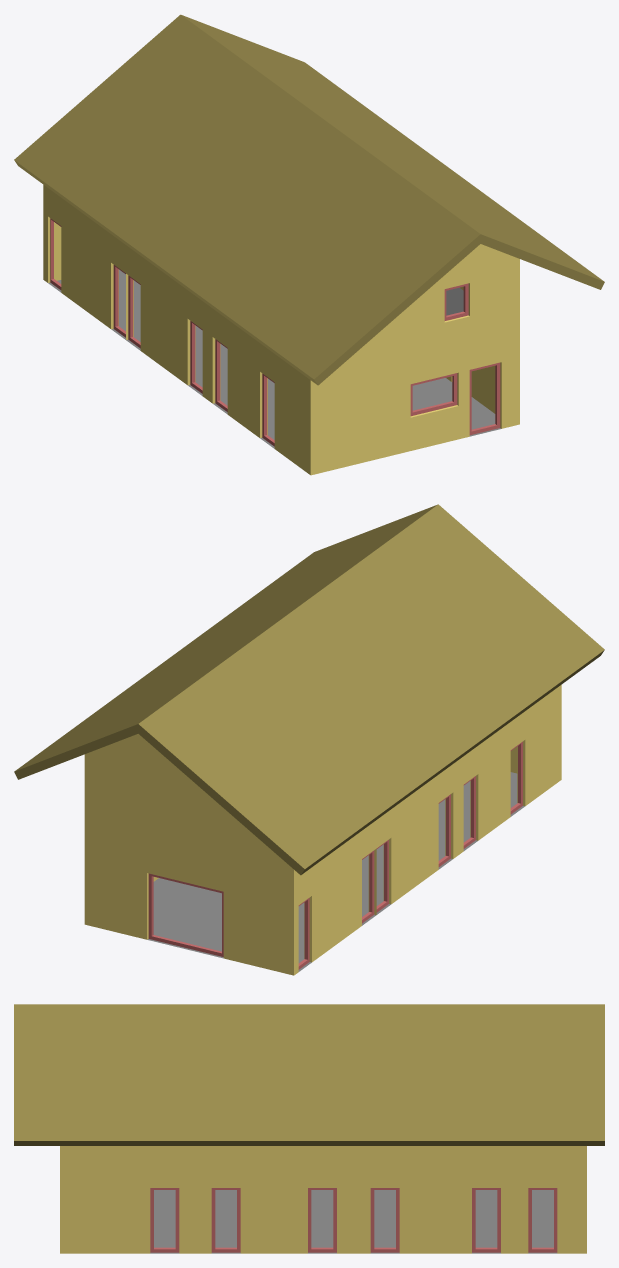
File: result.glb
3 views of the same model, one above another, from view 1: azimuth 30°, elevation 25°; view 2: azimuth 150°, elevation 25°; view 3: azimuth 270°, elevation 25° (orthographic).
Visible parts, largest first — view 1: 9060ba37-cd70-4b9c-8718-fbf36fac8c1b__undefined (×2), 3642437c-c96f-4bcb-af7e-b00696e3eb0c__undefined, 3e9b1ddf-e010-415d-93b7-eded4882fa30__Plane_28, be294046-9f36-4c78-aa4d-813d171917f1__Box, d15cfc01-be4c-47a4-b354-b2e0905c94ab__Box_3; view 2: 9060ba37-cd70-4b9c-8718-fbf36fac8c1b__undefined (×2), 3642437c-c96f-4bcb-af7e-b00696e3eb0c__undefined, 3e9b1ddf-e010-415d-93b7-eded4882fa30__Plane_28, 4cf07cf6-61c1-4d86-915a-6efecf1f9ba4__Box_9; view 3: 9060ba37-cd70-4b9c-8718-fbf36fac8c1b__undefined, 3642437c-c96f-4bcb-af7e-b00696e3eb0c__undefined, 3e9b1ddf-e010-415d-93b7-eded4882fa30__Plane_28, 37cbd0ff-d617-4555-941d-2ce66f1a5bc3__Box_48, 5401a7ec-251e-447f-8962-9f68f3aa1ee6__Box_51, 9143a128-0308-42bd-9ef6-82571c81af38__Box_57, 7bcc350a-86ef-4c80-9e91-313c3a05a089__Box_63, b66a86c9-f8c9-48d1-a703-7bf58d1870d2__Box_54, 6a0384a7-00d9-4998-9f90-338932a3c19b__Box_60.
Part boxes in pixels (x1,y1,x2,y2): 9060ba37-cd70-4b9c-8718-fbf36fac8c1b__undefined (×2): [14, 14, 604, 385]; 3642437c-c96f-4bcb-af7e-b00696e3eb0c__undefined: [43, 185, 519, 475]; 3e9b1ddf-e010-415d-93b7-eded4882fa30__Plane_28: [48, 269, 501, 448]; be294046-9f36-4c78-aa4d-813d171917f1__Box: [469, 362, 500, 435]; d15cfc01-be4c-47a4-b354-b2e0905c94ab__Box_3: [410, 373, 457, 416]; 9060ba37-cd70-4b9c-8718-fbf36fac8c1b__undefined (×2): [14, 504, 604, 875]; 3642437c-c96f-4bcb-af7e-b00696e3eb0c__undefined: [84, 685, 561, 975]; 3e9b1ddf-e010-415d-93b7-eded4882fa30__Plane_28: [147, 772, 524, 971]; 4cf07cf6-61c1-4d86-915a-6efecf1f9ba4__Box_9: [148, 873, 223, 956]; 9060ba37-cd70-4b9c-8718-fbf36fac8c1b__undefined: [14, 1004, 604, 1145]; 3642437c-c96f-4bcb-af7e-b00696e3eb0c__undefined: [60, 1146, 586, 1253]; 3e9b1ddf-e010-415d-93b7-eded4882fa30__Plane_28: [150, 1190, 557, 1253]; 37cbd0ff-d617-4555-941d-2ce66f1a5bc3__Box_48: [150, 1188, 179, 1252]; 5401a7ec-251e-447f-8962-9f68f3aa1ee6__Box_51: [211, 1188, 240, 1252]; 9143a128-0308-42bd-9ef6-82571c81af38__Box_57: [370, 1188, 399, 1252]; 7bcc350a-86ef-4c80-9e91-313c3a05a089__Box_63: [528, 1188, 557, 1252]; b66a86c9-f8c9-48d1-a703-7bf58d1870d2__Box_54: [308, 1188, 336, 1252]; 6a0384a7-00d9-4998-9f90-338932a3c19b__Box_60: [472, 1188, 500, 1252].
Size of the model in its own units: 912 by 667 by 1629.
